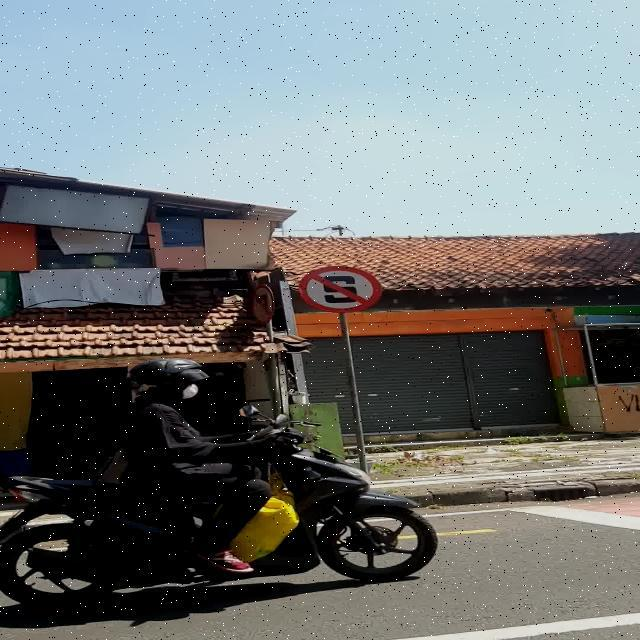Dilarang Berhenti: (298, 266, 382, 313)
